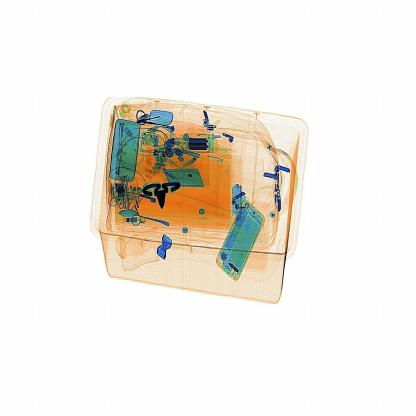gun: (140, 171, 186, 211)
